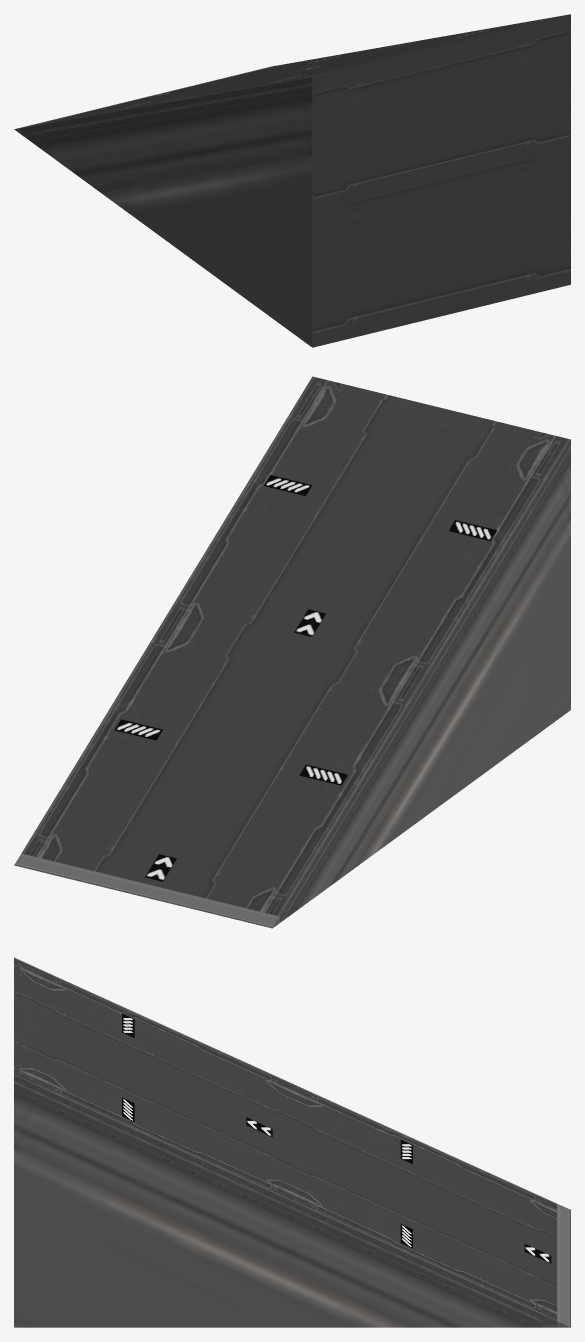
File: sf_ramp_4.glb
3 renders of one model, top to bottom at view 1: azimuth 30°, elevation 25°; view 2: azimuth 150°, elevation 25°; view 3: azimuth 270°, elevation 25°, orthographic. The views are drawn at different scales.
Parts seen in each view (by area): view 1: Platform_Ramp_4; view 2: Platform_Ramp_4; view 3: Platform_Ramp_4.
Part boxes in pixels (x1,y1,x2,y2): Platform_Ramp_4: [14, 14, 570, 347]; Platform_Ramp_4: [14, 376, 570, 928]; Platform_Ramp_4: [14, 957, 570, 1327].
Size of the model in its own units: 2 by 2 by 4.
Materials: 3 (3 with a texture image).
